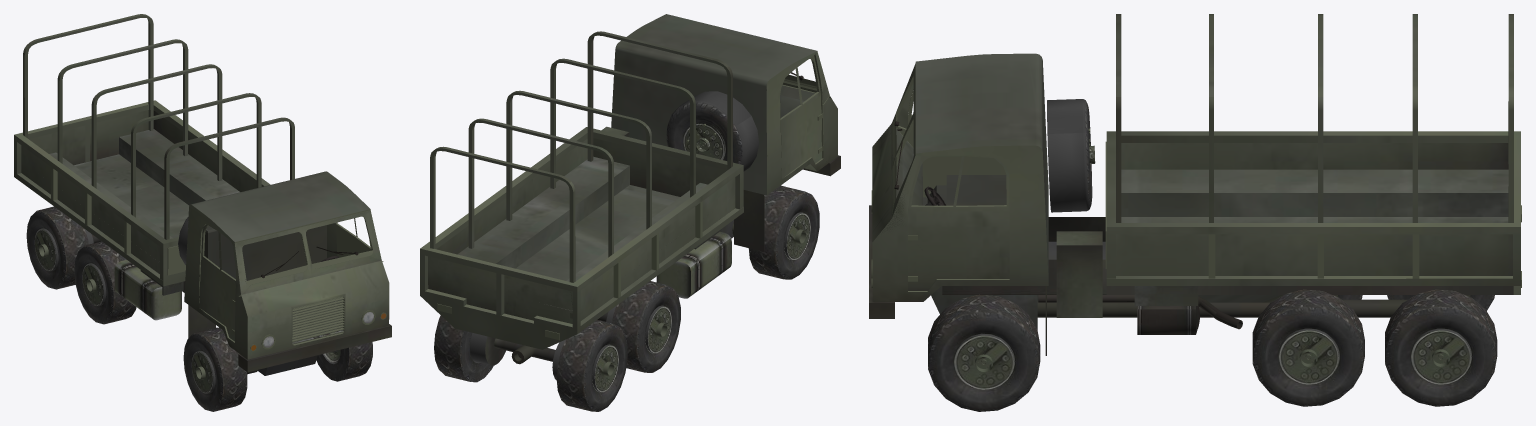
The model's file is tam150.glb.
3 renders of one model, left to right at view 1: azimuth 30°, elevation 25°; view 2: azimuth 150°, elevation 25°; view 3: azimuth 270°, elevation 25°, orthographic. The views are drawn at different scales.
Parts seen in each view (by area): view 1: TAM150_body, Wheel_R_4, Wheel_R_6, Wheel_R_5, Wheel_L_1; view 2: TAM150_body, Wheel_R_6, Wheel_R_4, Wheel_R_5, Wheel_L_3; view 3: TAM150_body, Wheel_L_2, Wheel_L_3, Wheel_L_1.
Part boxes in pixels (bbox=[...]): TAM150_body: bbox=[14, 14, 391, 375]; Wheel_R_4: bbox=[183, 327, 257, 411]; Wheel_R_6: bbox=[26, 206, 101, 289]; Wheel_R_5: bbox=[74, 241, 136, 324]; Wheel_L_1: bbox=[316, 342, 372, 381]; TAM150_body: bbox=[420, 14, 840, 364]; Wheel_R_6: bbox=[532, 320, 627, 411]; Wheel_R_4: bbox=[732, 185, 819, 279]; Wheel_R_5: bbox=[597, 281, 680, 372]; Wheel_L_3: bbox=[434, 315, 522, 382]; TAM150_body: bbox=[869, 14, 1521, 362]; Wheel_L_2: bbox=[1252, 289, 1364, 406]; Wheel_L_3: bbox=[1385, 289, 1497, 406]; Wheel_L_1: bbox=[928, 294, 1040, 411].
Bounding box in the file's own units: 3.12 × 4.21 × 8.
Materials: 2 (2 with a texture image).
